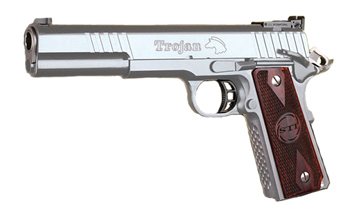weapon: (18, 16, 350, 206)
